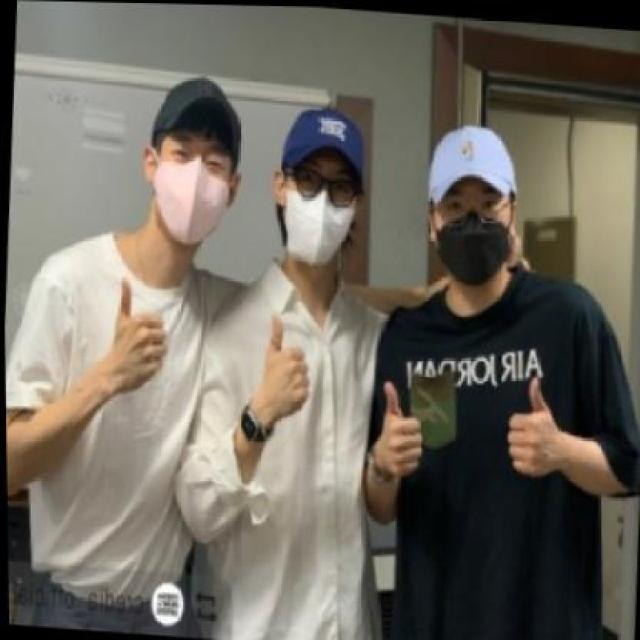hat: (422, 114, 520, 209), (150, 61, 248, 150), (275, 103, 367, 194)
